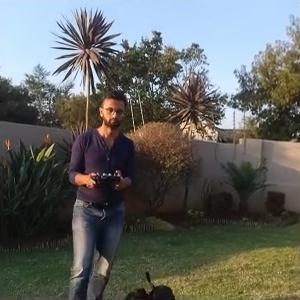follow: (58, 90, 134, 298)
